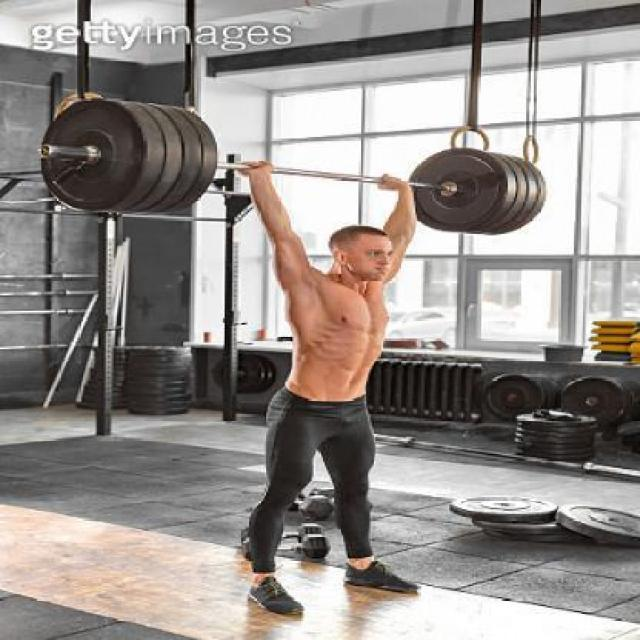Barbell: (32, 134, 54, 166)
